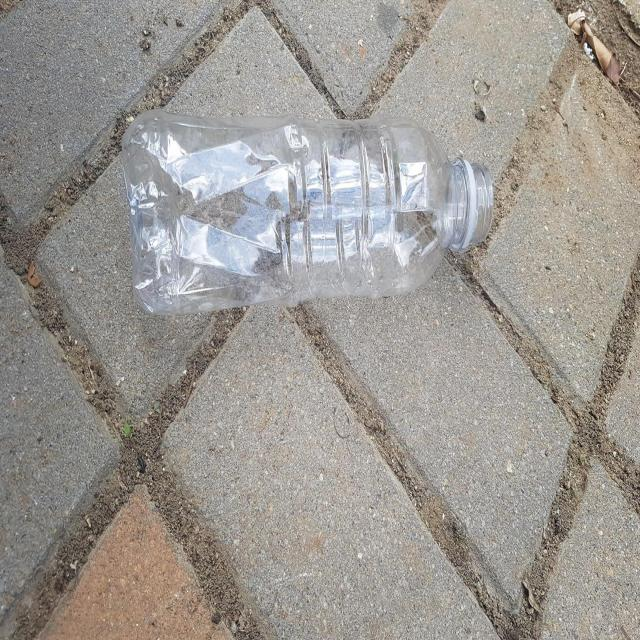plastic: (122, 109, 494, 314)
